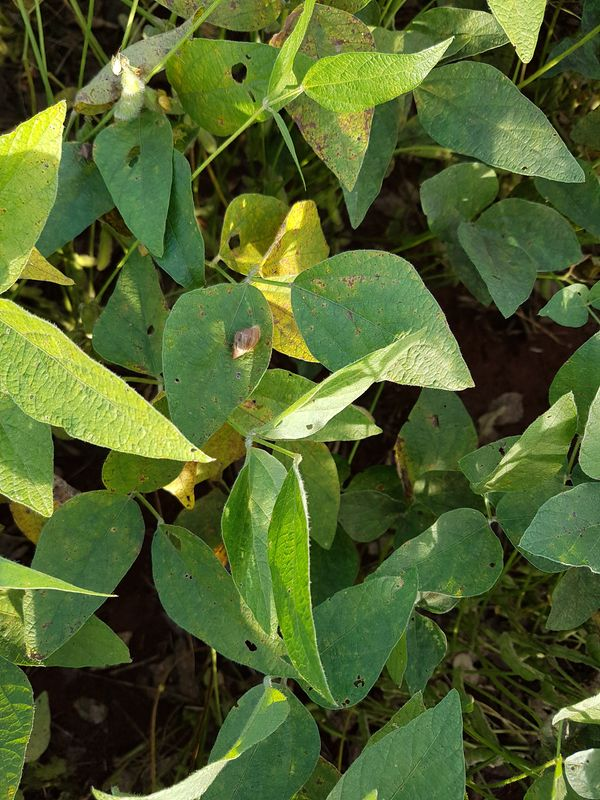Euschistus_heros_adulto: (73, 136, 99, 166)
Euschistus_heros_ninfa: (154, 91, 175, 114)
Gastropoda: (226, 320, 267, 366)
